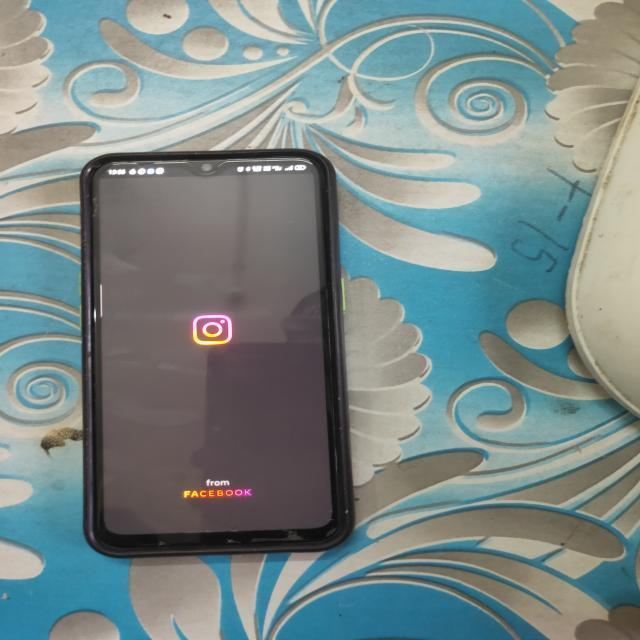Phone: (80, 141, 358, 563)
